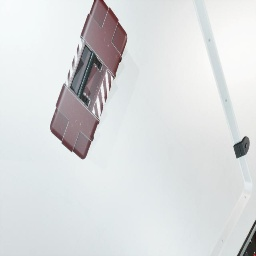FirstAidBox ,: (50, 0, 127, 160)
